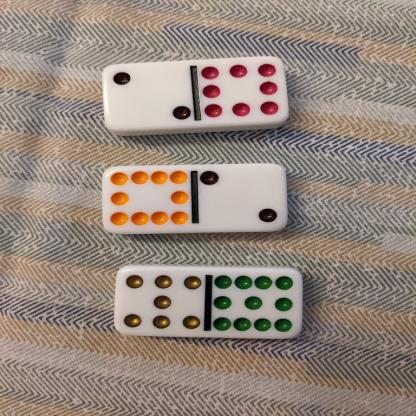pip-10: (101, 166, 194, 234)
pip-11: (209, 264, 302, 339)
pip-2: (102, 62, 196, 130), (195, 164, 287, 232)
pip-7: (114, 264, 207, 337)
pip-8: (198, 56, 288, 124)
